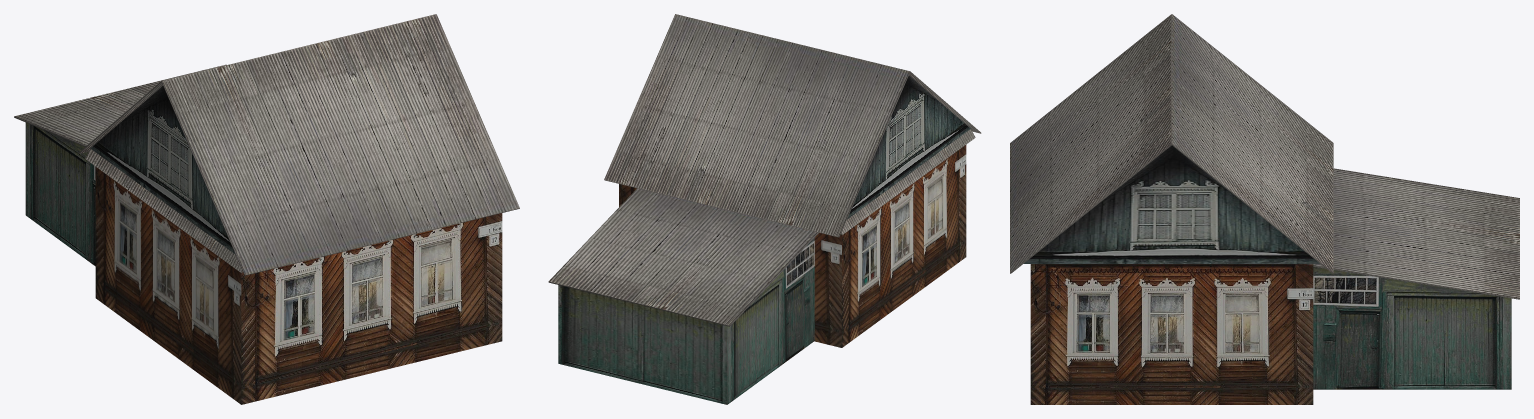
Rendered from d_dom_1et_39.FBX.
3 views of the same model, side by side, from view 1: azimuth 30°, elevation 25°; view 2: azimuth 150°, elevation 25°; view 3: azimuth 270°, elevation 25° (orthographic). The views are drawn at different scales.
Visible parts, largest first — view 1: d_dom_1et_39; view 2: d_dom_1et_39; view 3: d_dom_1et_39.
Boxes of the visible parts, x1,y1,x2,y2 form: d_dom_1et_39: (14, 14, 519, 404); d_dom_1et_39: (548, 14, 981, 404); d_dom_1et_39: (1010, 14, 1519, 404).
Size of the model in its own units: 6.79 by 11.23 by 6.42.
